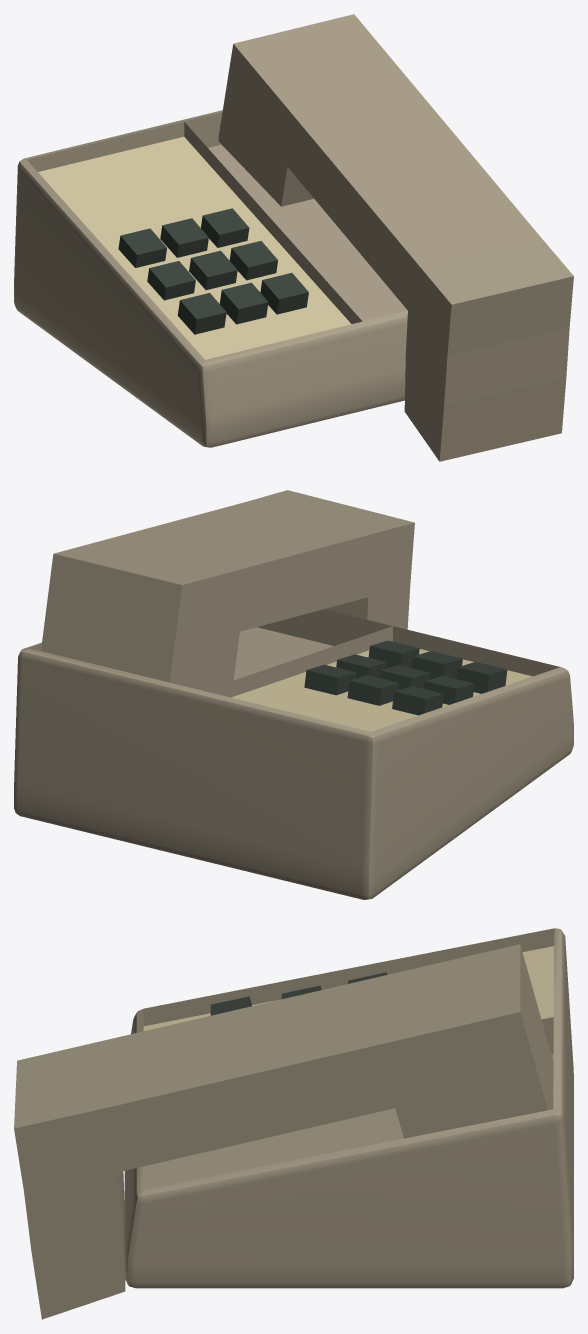
The model's file is landline.fbx.
3 renders of one model, top to bottom at view 1: azimuth 30°, elevation 25°; view 2: azimuth 150°, elevation 25°; view 3: azimuth 270°, elevation 25°, orthographic. The views are drawn at different scales.
Visible parts, largest first — view 1: pCube77; view 2: pCube77; view 3: pCube77.
Part boxes in pixels (bbox=[...]): pCube77: bbox=[14, 14, 573, 461]; pCube77: bbox=[14, 490, 573, 899]; pCube77: bbox=[14, 928, 573, 1319].
Size of the model in its own units: 12.01 by 9.07 by 14.96.
